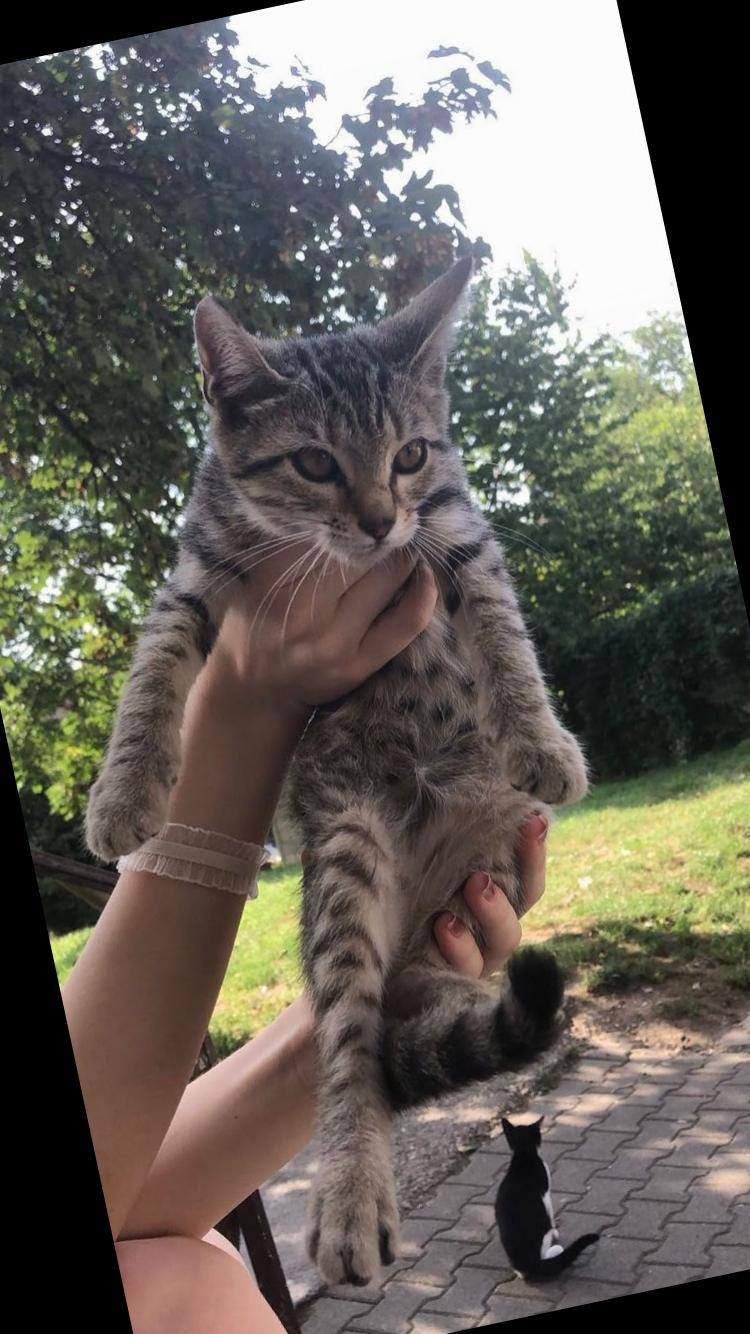macka: (0, 233, 688, 1324)
